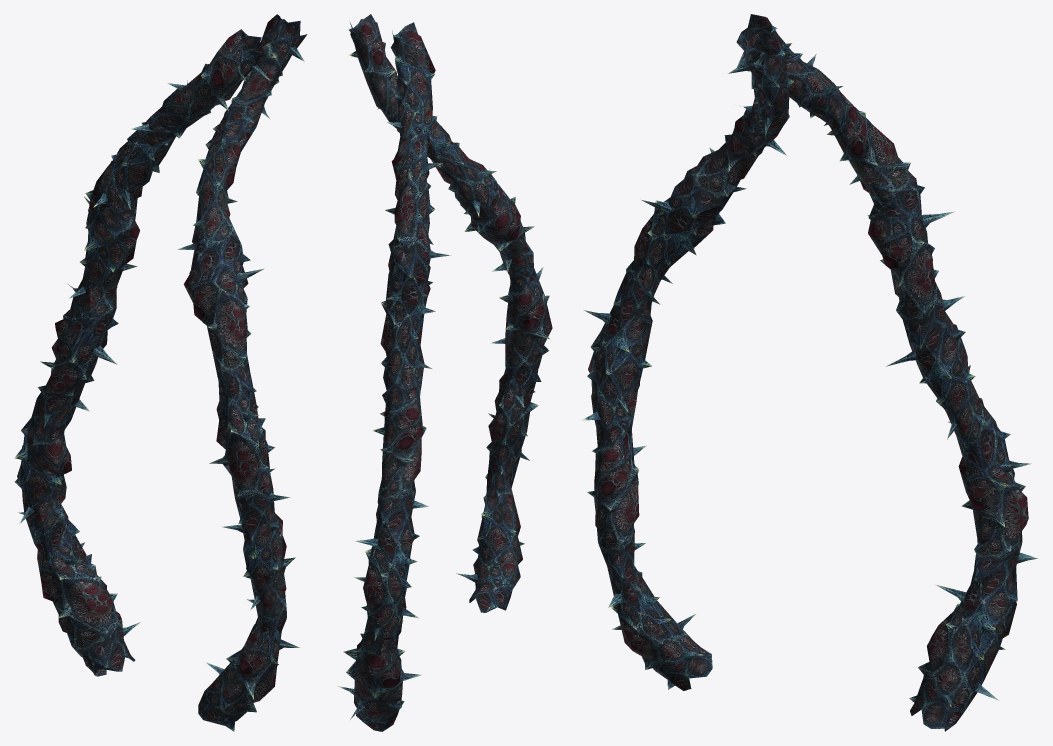
The model's file is 02_03_Makaijyu_06.fbx.
3 views of the same model, side by side, from view 1: azimuth 30°, elevation 25°; view 2: azimuth 150°, elevation 25°; view 3: azimuth 270°, elevation 25° (orthographic). The views are drawn at different scales.
Visible parts, largest first — view 1: LODGroup_3_MainMesh_1_SubMesh_1; view 2: LODGroup_3_MainMesh_1_SubMesh_1; view 3: LODGroup_3_MainMesh_1_SubMesh_1.
Part boxes in pixels (box(x1,y1,x2,y2)): LODGroup_3_MainMesh_1_SubMesh_1: box(14, 14, 307, 731); LODGroup_3_MainMesh_1_SubMesh_1: box(337, 14, 552, 731); LODGroup_3_MainMesh_1_SubMesh_1: box(581, 14, 1038, 731).
Size of the model in its own units: 295 by 1091 by 607.
